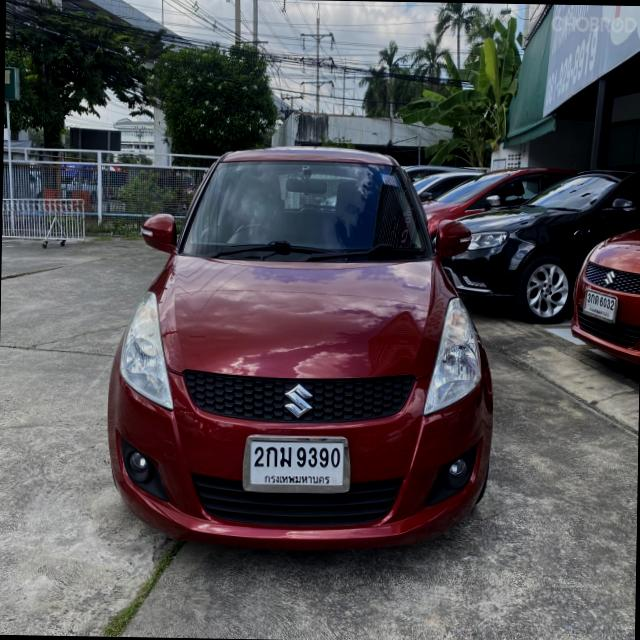license_plate: (242, 426, 353, 501), (582, 286, 615, 323)
